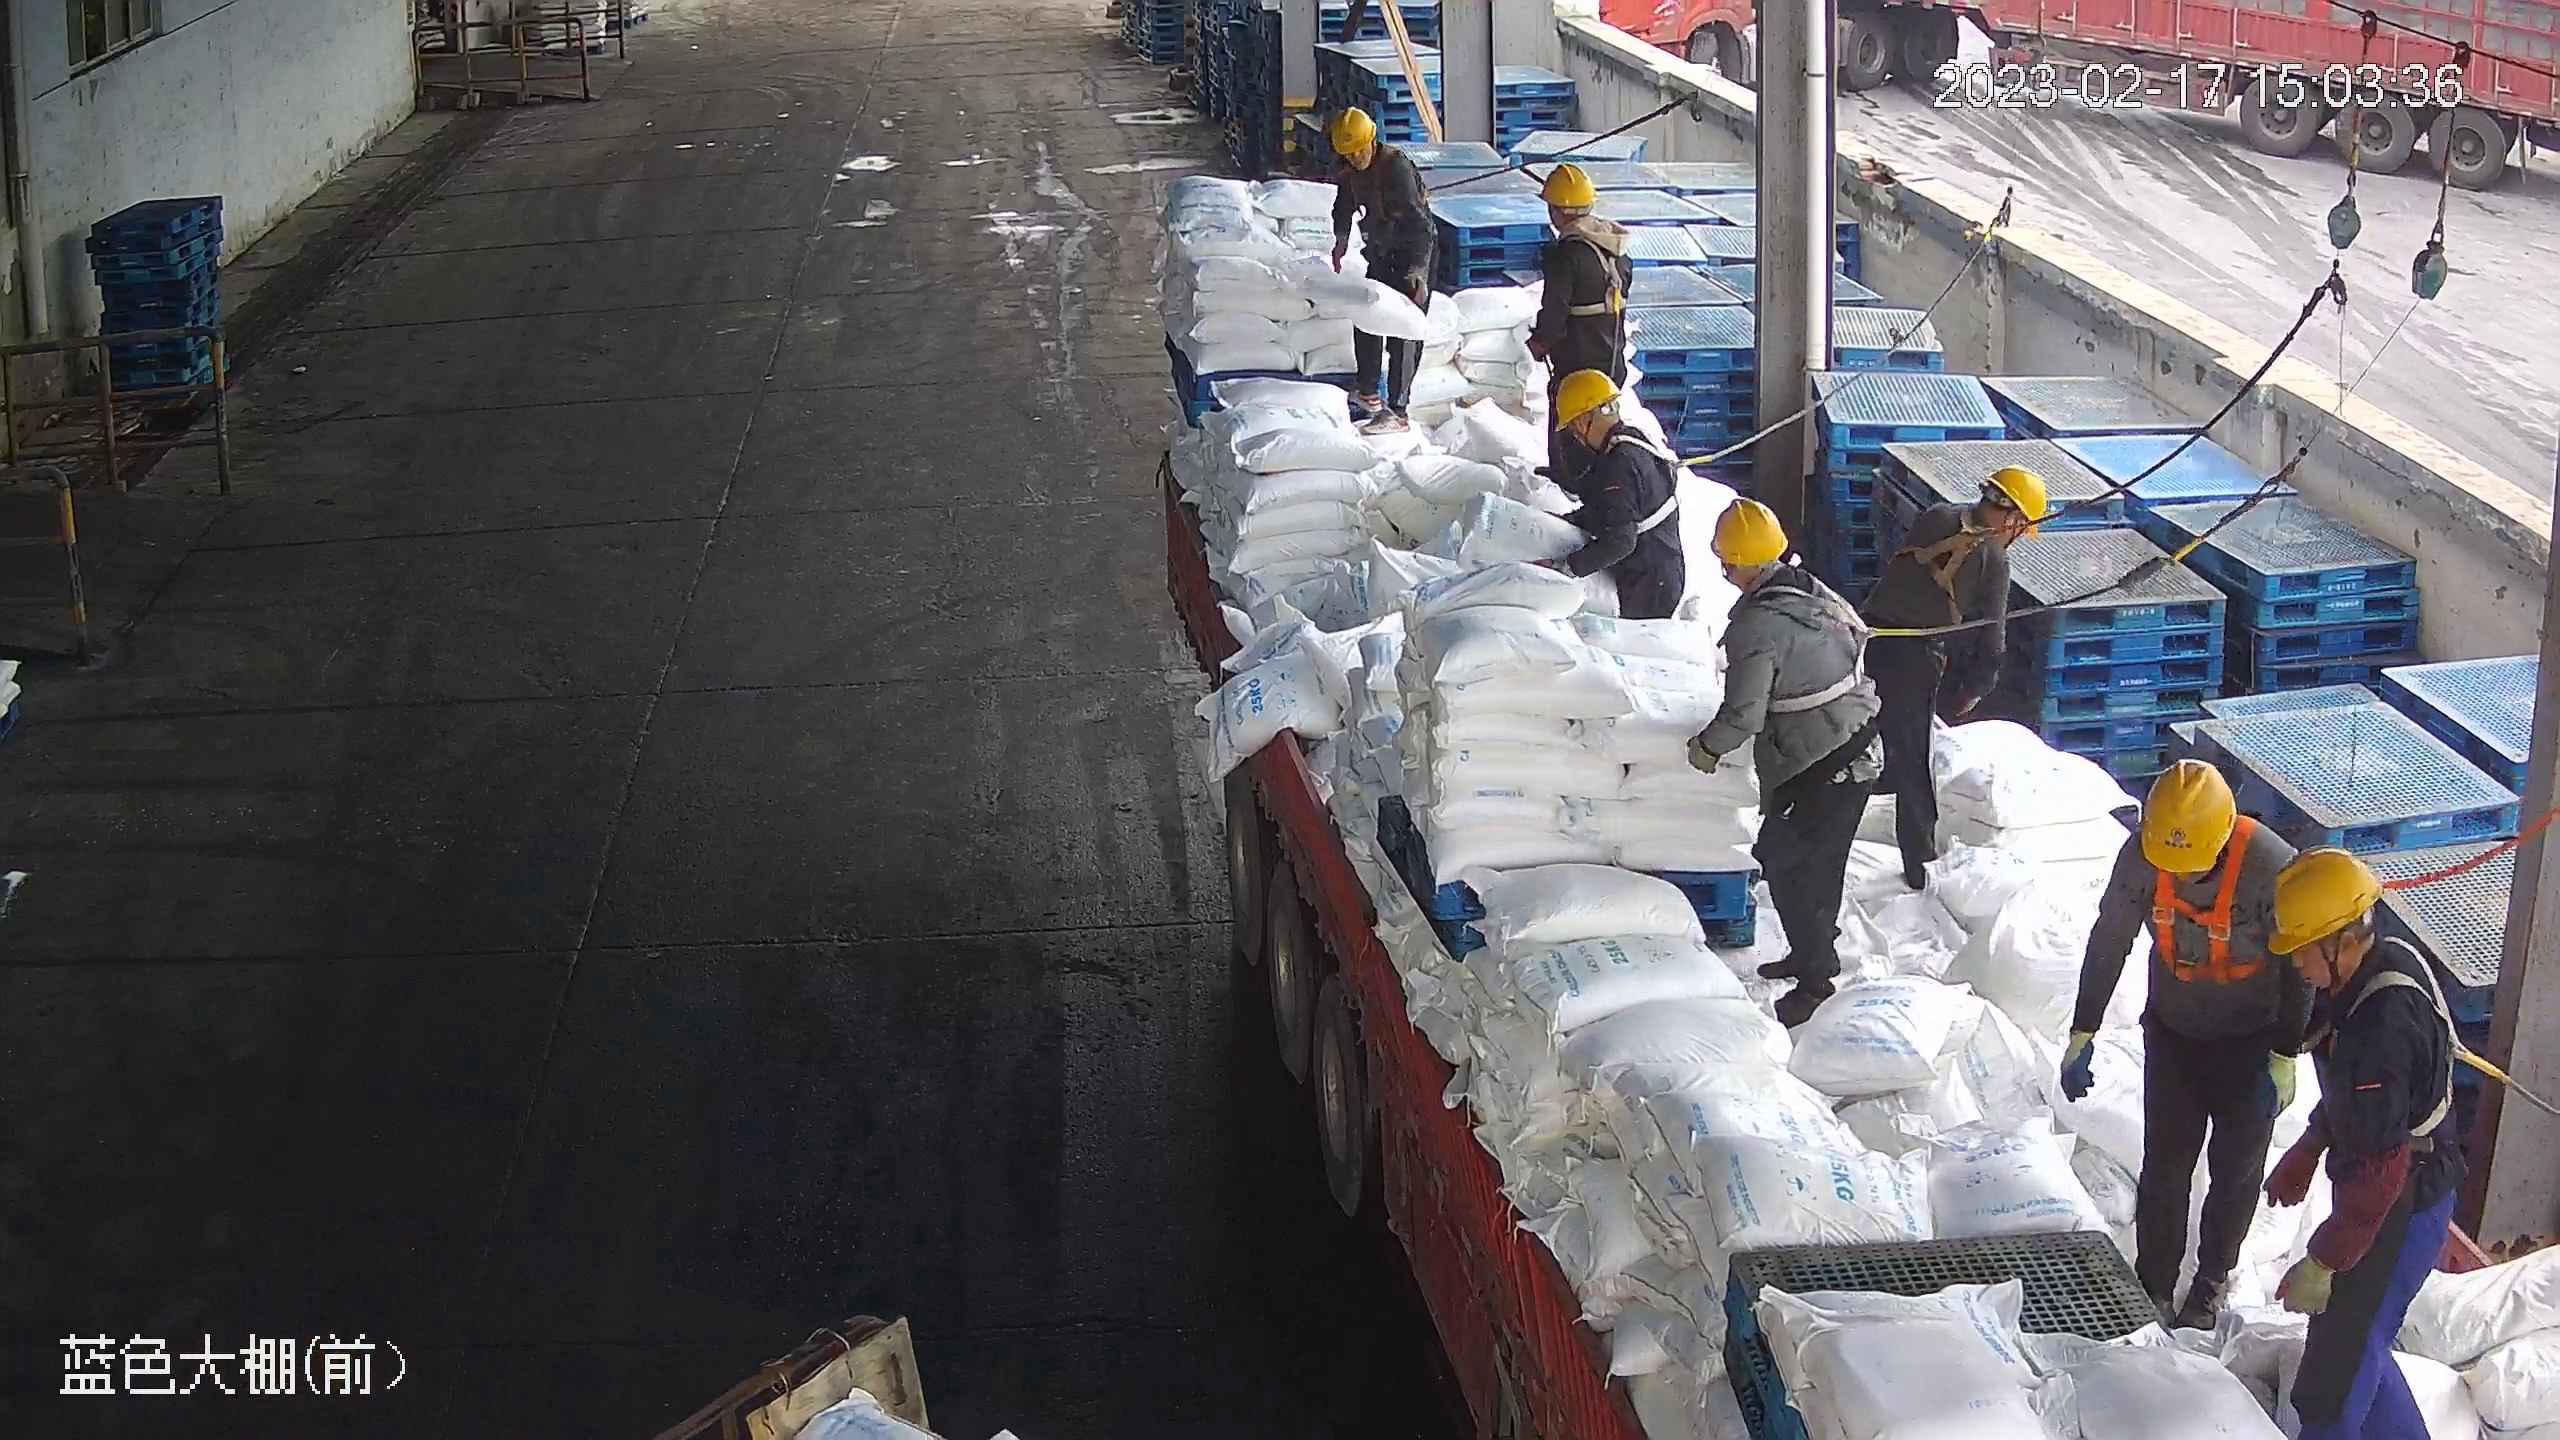belt: (1847, 465, 2049, 902), (1543, 367, 1690, 628), (1525, 159, 1636, 454), (2331, 945, 2493, 1143), (2139, 825, 2282, 984), (1752, 572, 1897, 719), (1901, 462, 2049, 579), (2244, 840, 2381, 963), (1883, 515, 2019, 635), (1583, 426, 1707, 536), (1534, 161, 1634, 289), (1550, 223, 1636, 317)
head: (2260, 841, 2472, 1440), (2262, 846, 2467, 1075), (2103, 752, 2302, 906), (1706, 495, 1855, 649), (1903, 463, 2051, 579), (1552, 366, 1679, 486), (2135, 753, 2237, 879), (1534, 160, 1634, 269), (1327, 103, 1425, 194)
helmet: (2262, 847, 2467, 1070), (2107, 755, 2296, 900), (1907, 463, 2050, 576), (2264, 845, 2383, 956), (2136, 753, 2237, 877), (1535, 159, 1632, 267), (1709, 496, 1789, 566), (1978, 463, 2048, 539), (1551, 366, 1624, 430), (1536, 160, 1599, 206), (1329, 104, 1378, 155)
people: (1110, 153, 2547, 1440), (2061, 755, 2298, 1322), (2259, 844, 2470, 1440), (1684, 497, 1883, 1032), (1853, 463, 2048, 896), (1540, 365, 1687, 628), (1323, 104, 1437, 433), (1526, 160, 1635, 456)
truck: (1127, 171, 2556, 1432), (1687, 499, 1882, 1031)
